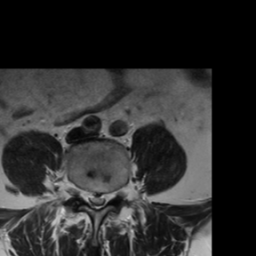CCS_stenosis: (92, 186, 99, 214)
LFS_normal: (108, 183, 116, 206)
LLS_normal: (100, 186, 107, 210)
RFS_normal: (78, 180, 86, 207)
RLS_normal: (85, 184, 92, 210)
